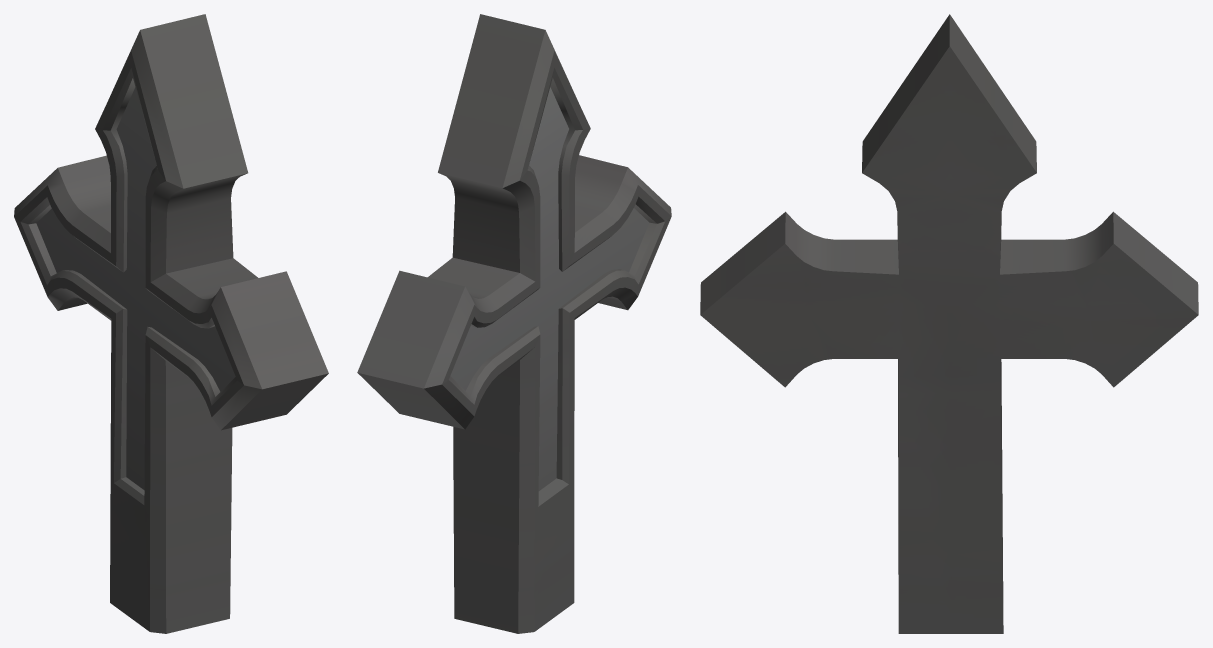
The model's file is Cross_6.obj.
The picture shows the model from 3 angles, left to right: view 1: azimuth 30°, elevation 25°; view 2: azimuth 150°, elevation 25°; view 3: azimuth 270°, elevation 25°; orthographic projection.
Parts seen in each view (by area): view 1: Cross_6; view 2: Cross_6; view 3: Cross_6.
Boxes of the visible parts, x1,y1,x2,y2 form: Cross_6: (14,14,328,633); Cross_6: (357,14,671,633); Cross_6: (700,14,1198,633).
Bounding box in the file's own units: 0.1644 × 1.16 × 0.8896.
